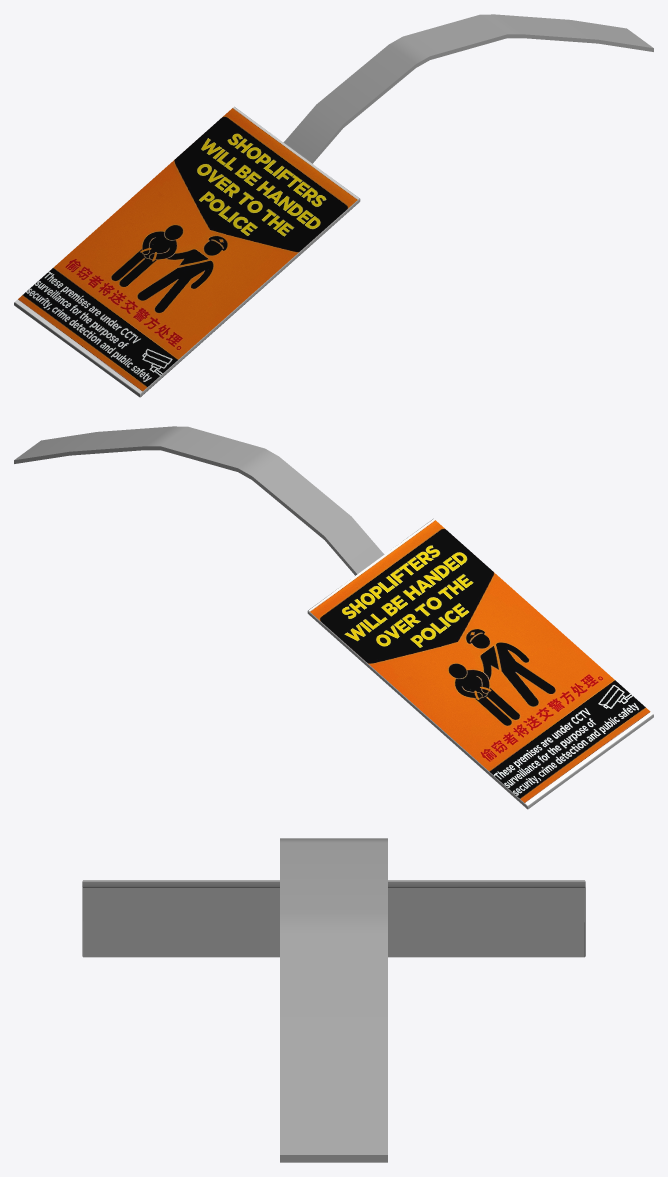
The model's file is Wobbler1.fbx.
3 renders of one model, top to bottom at view 1: azimuth 30°, elevation 25°; view 2: azimuth 150°, elevation 25°; view 3: azimuth 270°, elevation 25°, orthographic. The views are drawn at different scales.
Parts seen in each view (by area): view 1: Wobbler1; view 2: Wobbler1; view 3: Wobbler1.
Boxes of the visible parts, bbox=[...] form: Wobbler1: bbox=[14, 14, 653, 397]; Wobbler1: bbox=[14, 426, 653, 809]; Wobbler1: bbox=[82, 838, 585, 1162].
Bounding box in the file's own units: 31.37 × 12 × 12.14.
